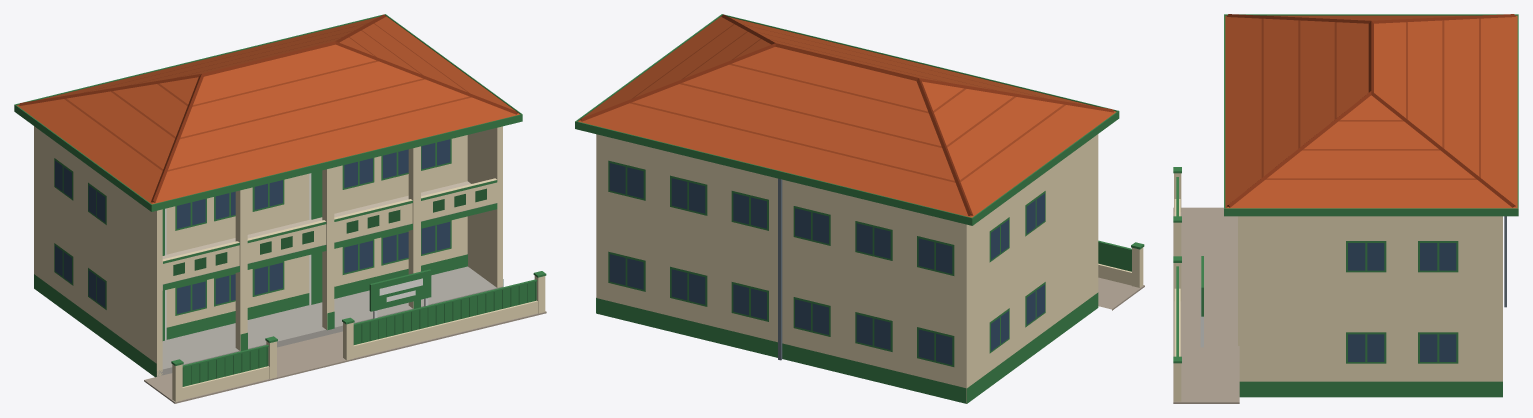
The model's file is kantor_03.glb.
The picture shows the model from 3 angles, left to right: view 1: azimuth 30°, elevation 25°; view 2: azimuth 150°, elevation 25°; view 3: azimuth 270°, elevation 25°; orthographic projection. The views are drawn at different scales.
Parts seen in each view (by area): view 1: kantor_03; view 2: kantor_03; view 3: kantor_03.
Part boxes in pixels (x1,y1,x2,y2): kantor_03: (14,14,546,403); kantor_03: (575,14,1144,403); kantor_03: (1173,14,1518,403).
Bounding box in the file's own units: 16 × 9.61 × 11.99.
